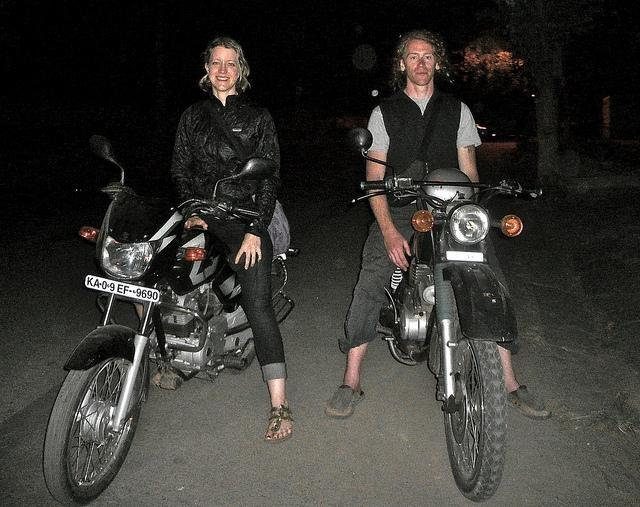motorcycle: (44, 133, 298, 499), (352, 131, 542, 502)
